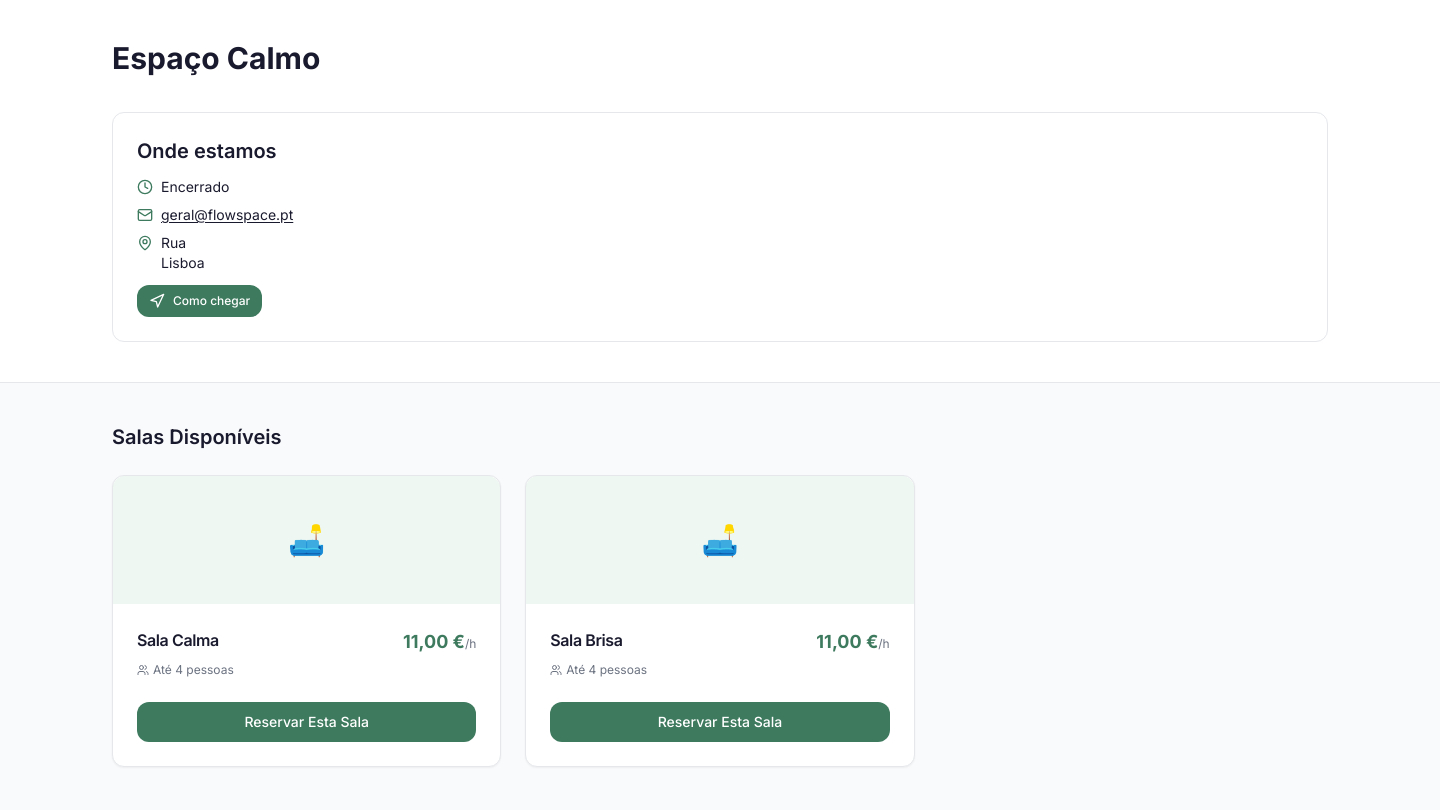
Scenario: Space page — selecting a room (B27) › does not animate when the user prefers reduced motion
Click the button "Reservar Esta Sala" below "Sala Calma" at (307,722), box [137,702,476,742]
(page scrolled)
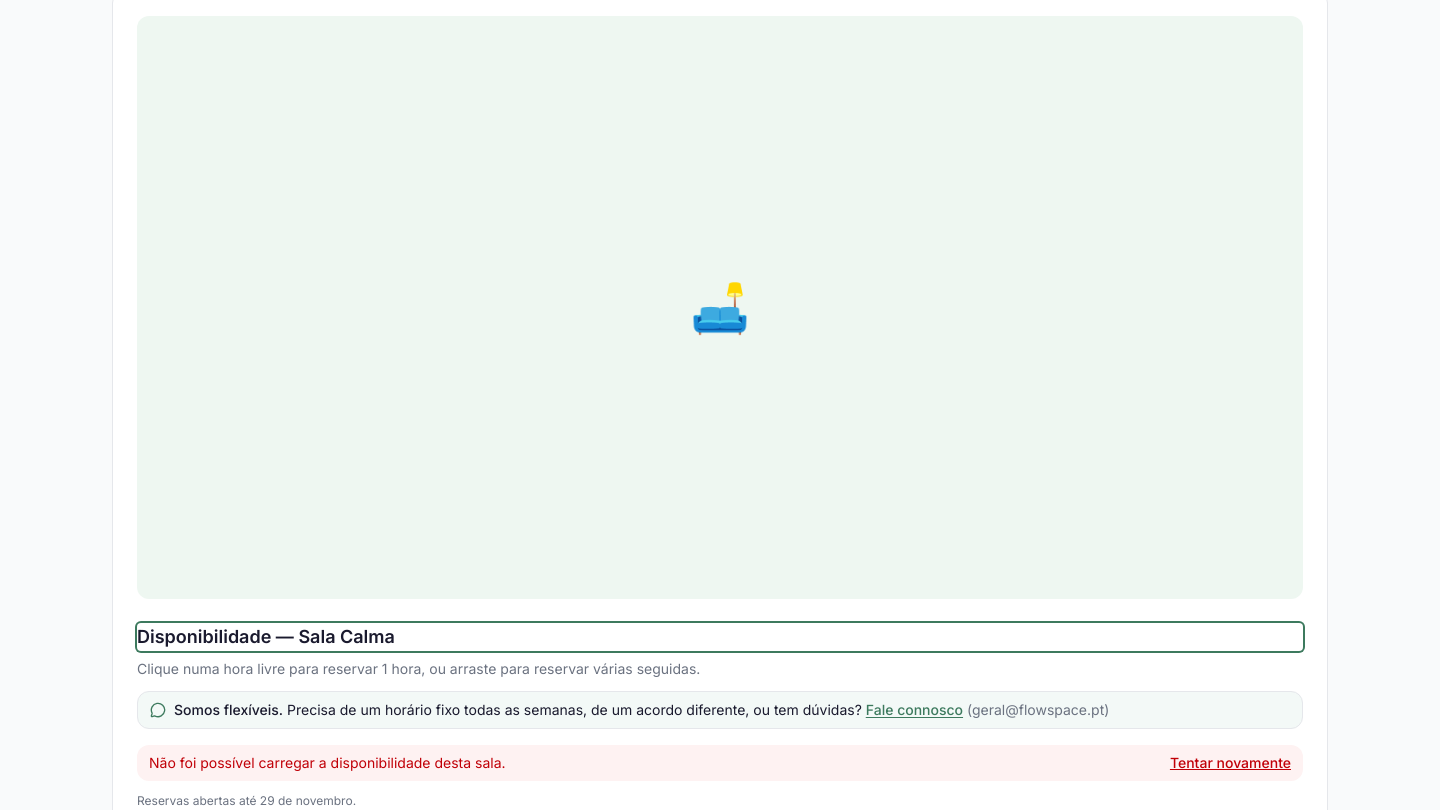
Expected: the heading "Disponibilidade — Sala Calma" is shown, [137,623,1303,651]
